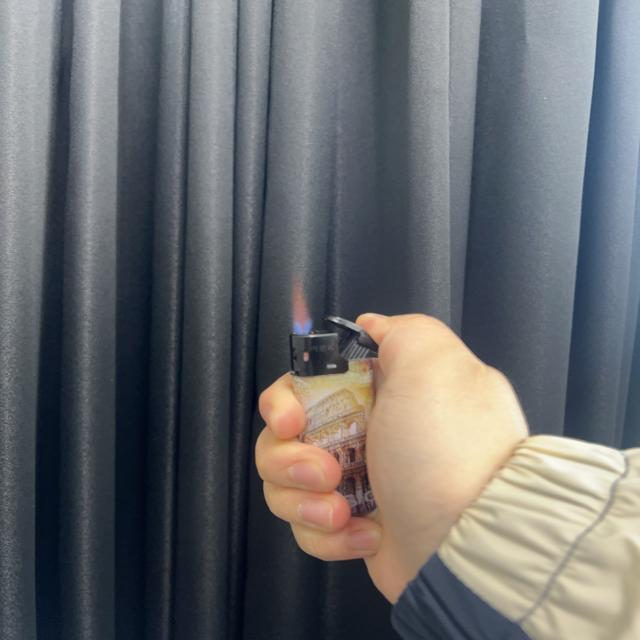fire: (288, 276, 314, 336)
